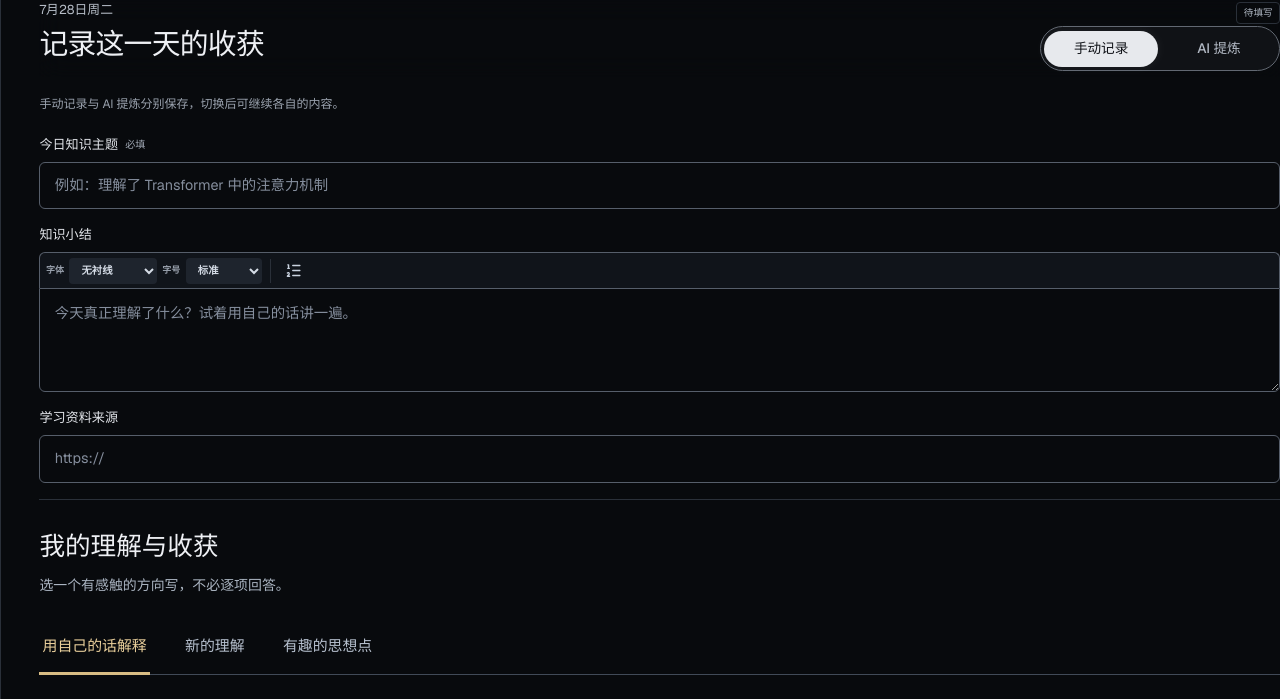
CheckInEditor modes › explains full-article extraction for section anchors
Click the button "AI 提炼".
click(1219, 49)  # box [1162,31,1276,67]
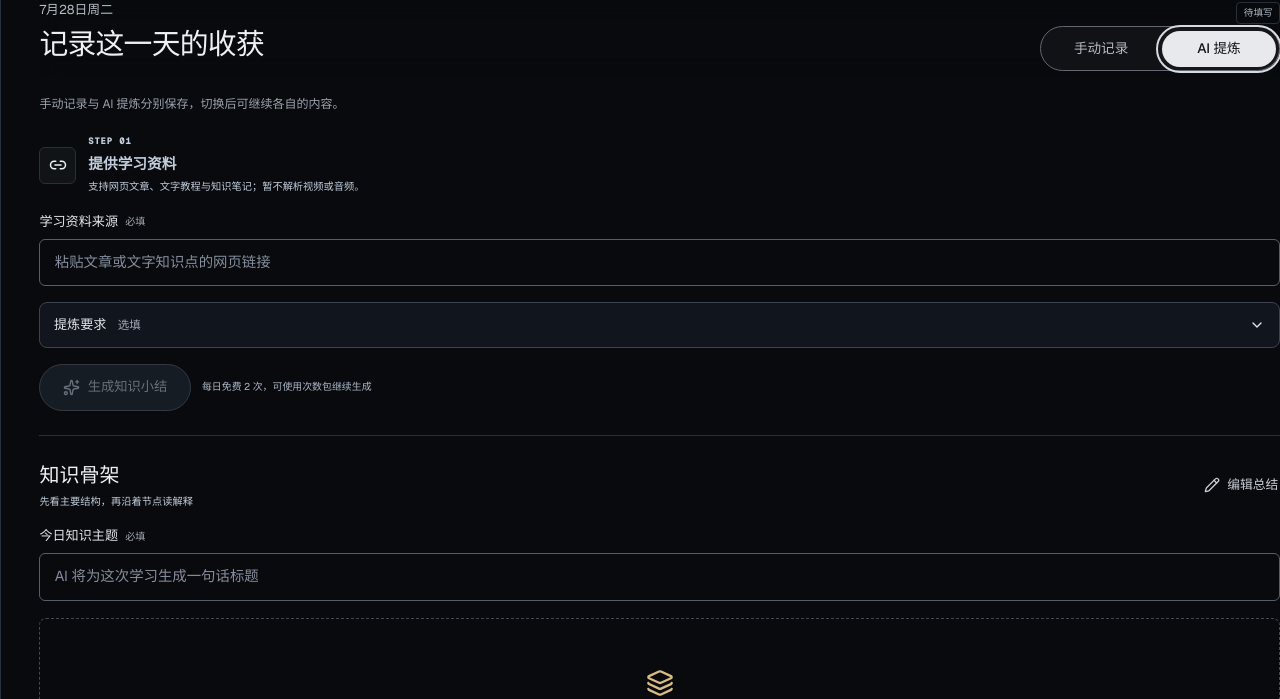
Type "https://example.com/article#skills" into the field labelled "学习资料来源 必填".
click(660, 262); type("https://example.com/article#skills")  # box [39,238,1279,286]
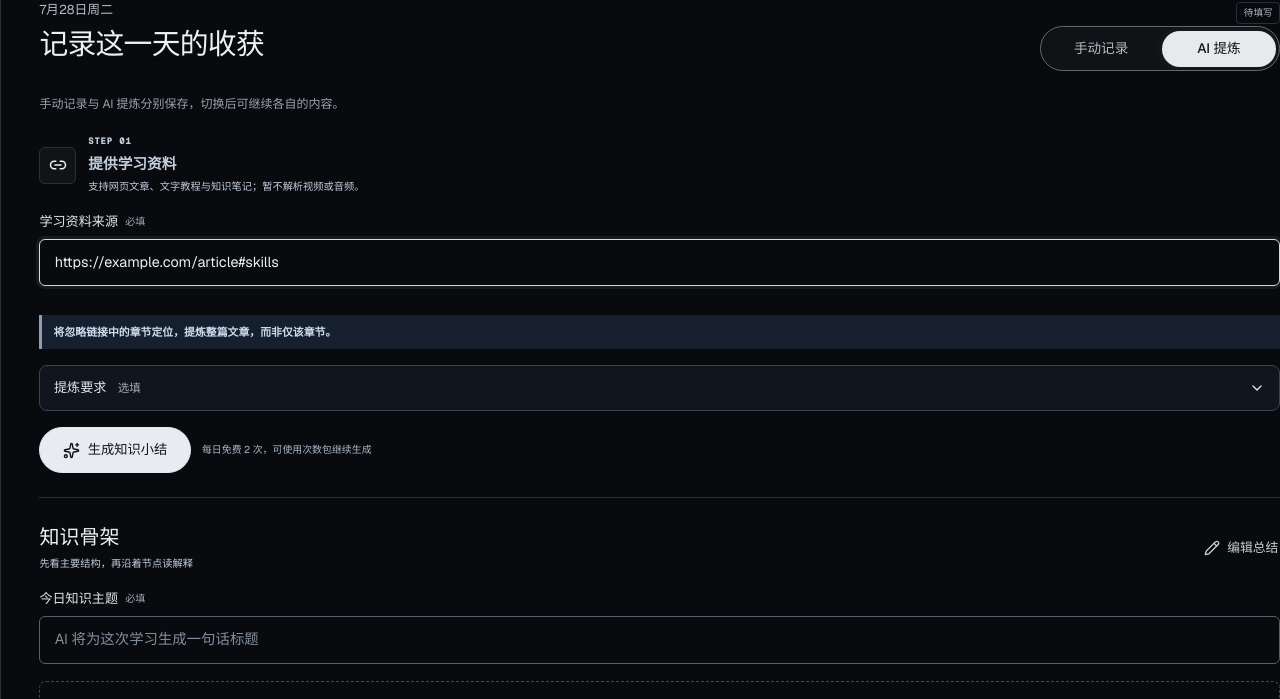
expect the text "将忽略链接中的章节定位，提炼整篇文章，而非仅该章节。" is shown: met, box [39,315,1279,349]
expect the button "生成知识小结" is enabled: met, box [39,427,191,473]
